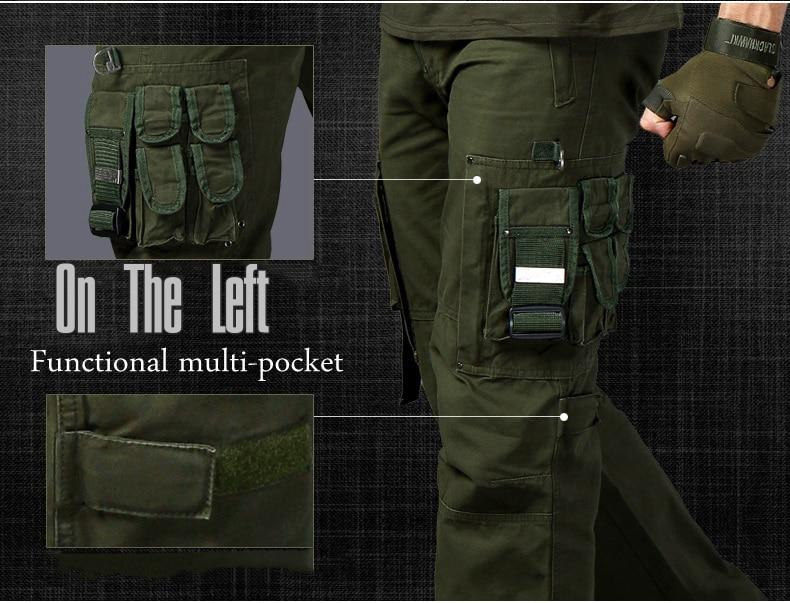pants: (348, 37, 743, 603)
